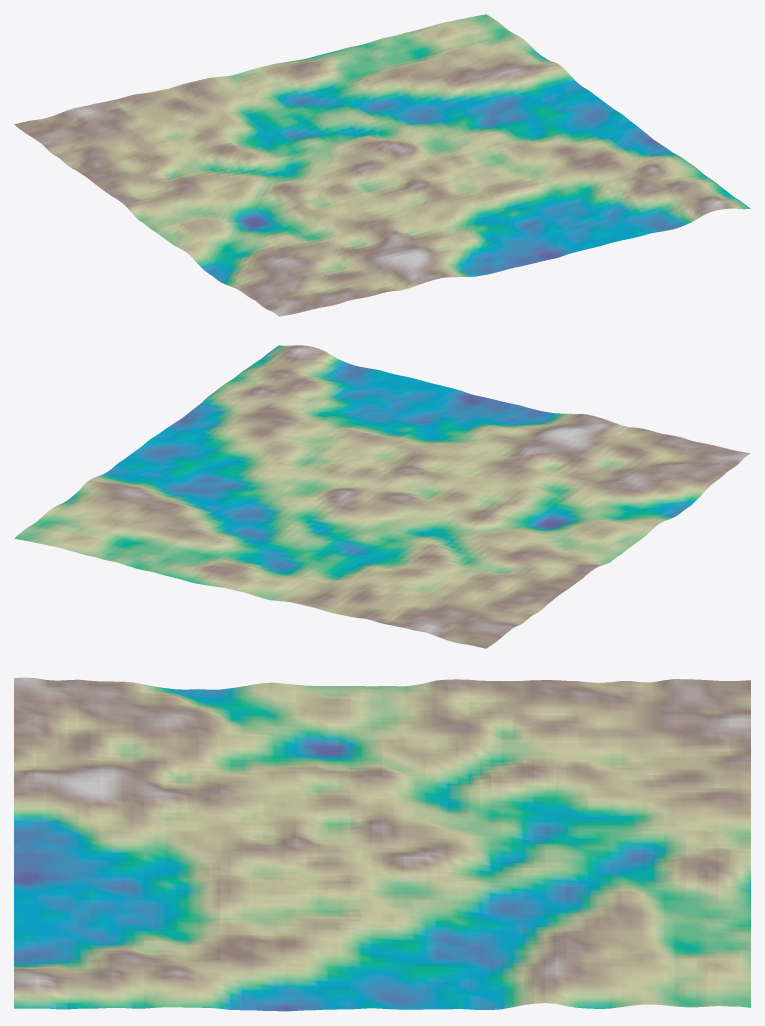
The model's file is 000002_terrain_only.glb.
The picture shows the model from 3 angles, top to bottom: view 1: azimuth 30°, elevation 25°; view 2: azimuth 150°, elevation 25°; view 3: azimuth 270°, elevation 25°; orthographic projection. The views are drawn at different scales.
Parts seen in each view (by area): view 1: terrain; view 2: terrain; view 3: terrain.
Part boxes in pixels (<box>): terrain: <box>14,14,750,316</box>; terrain: <box>14,345,750,648</box>; terrain: <box>14,677,750,1011</box>.
Bounding box in the file's own units: 0.0189 × 0.0004 × 0.0183.
